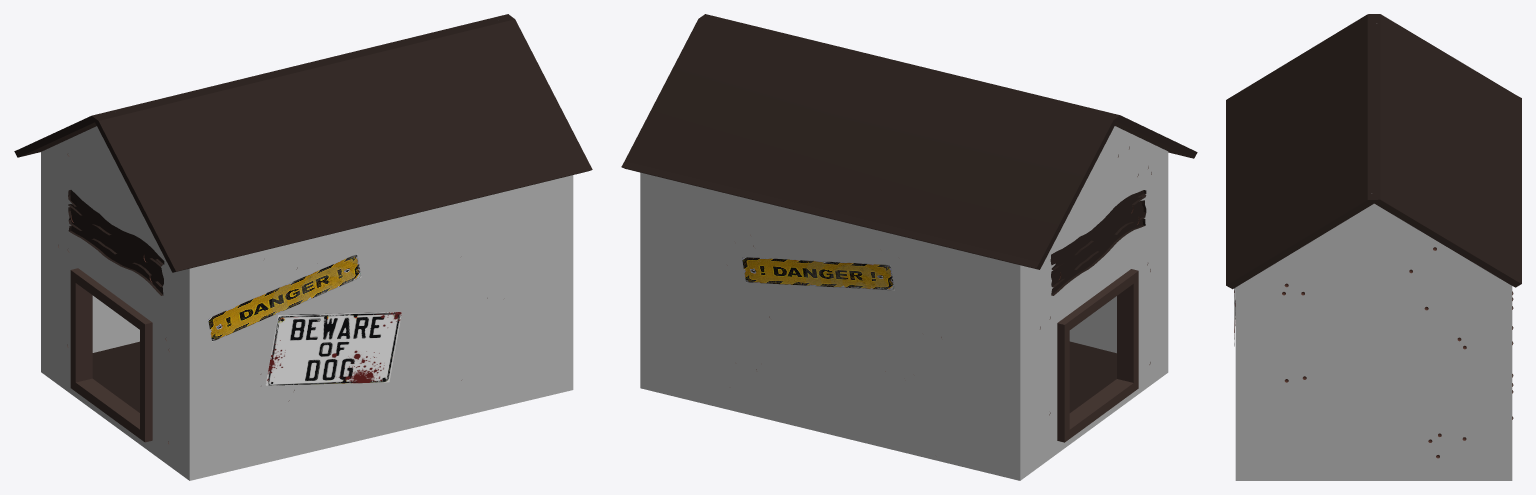
File: dog house + textures FIXED.fbx
The picture shows the model from 3 angles, left to right: view 1: azimuth 30°, elevation 25°; view 2: azimuth 150°, elevation 25°; view 3: azimuth 270°, elevation 25°; orthographic projection. The views are drawn at different scales.
Parts seen in each view (by area): view 1: house itself, roof + wood, beware of dog plate, door, danger plate 2, floor; view 2: house itself, roof + wood, door, danger plate, floor; view 3: house itself, roof + wood.
Part boxes in pixels (x1,y1,x2,y2): house itself: [41, 126, 573, 480]; roof + wood: [14, 14, 592, 295]; beware of dog plate: [265, 312, 401, 385]; door: [70, 268, 152, 442]; danger plate 2: [208, 254, 361, 341]; floor: [92, 341, 139, 412]; house itself: [640, 126, 1168, 480]; roof + wood: [621, 14, 1197, 295]; door: [1057, 269, 1138, 442]; danger plate: [742, 257, 894, 290]; floor: [1069, 341, 1116, 412]; house itself: [1235, 23, 1512, 480]; roof + wood: [1226, 14, 1521, 289].
Size of the model in its own units: 82.21 by 59.38 by 55.3.
